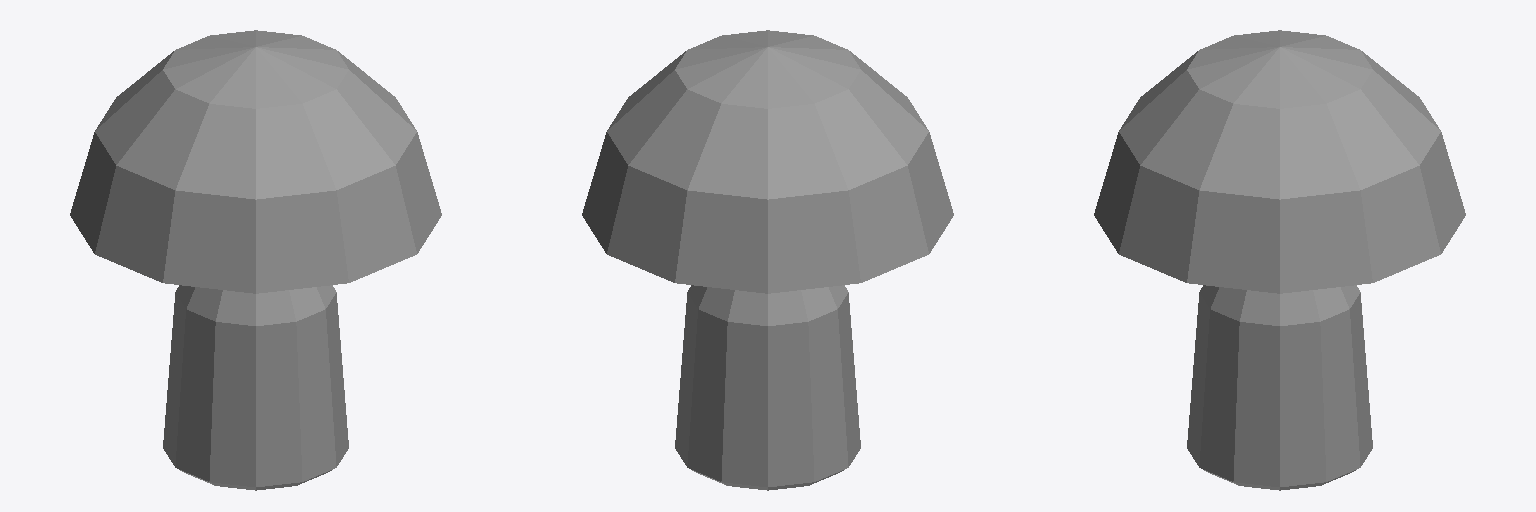
Rendered from mushroomg3.obj.
3 views of the same model, side by side, from view 1: azimuth 30°, elevation 25°; view 2: azimuth 150°, elevation 25°; view 3: azimuth 270°, elevation 25° (orthographic).
Parts seen in each view (by area): view 1: Sphere.002; view 2: Sphere.002; view 3: Sphere.002.
Boxes of the visible parts, box(x1,y1,x2,y2) form: Sphere.002: box(70, 30, 441, 490); Sphere.002: box(582, 30, 953, 490); Sphere.002: box(1094, 30, 1465, 490).
Bounding box in the file's own units: 0.3 × 0.3714 × 0.3.